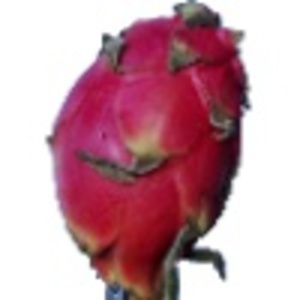pitaia: (48, 1, 253, 300)
